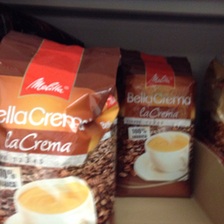coffee: (1, 35, 119, 222), (118, 51, 197, 196)
